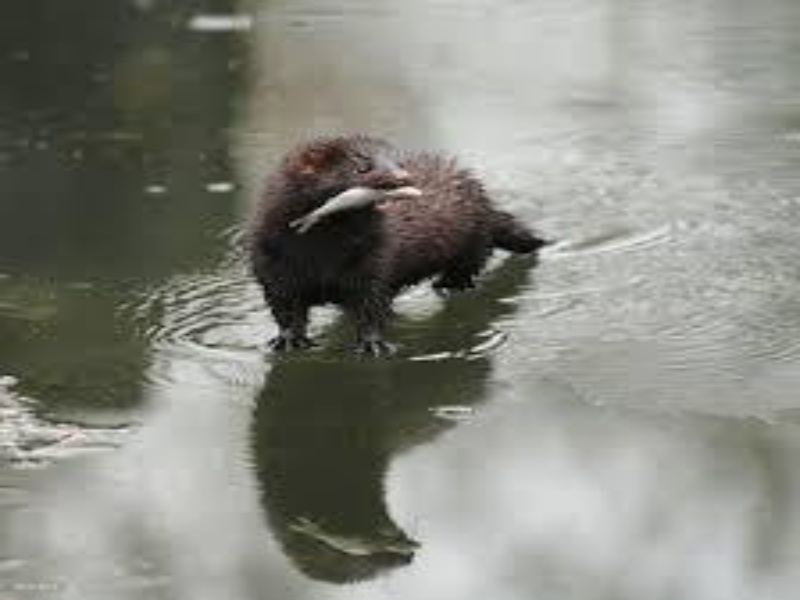minkish: (247, 127, 553, 358)
